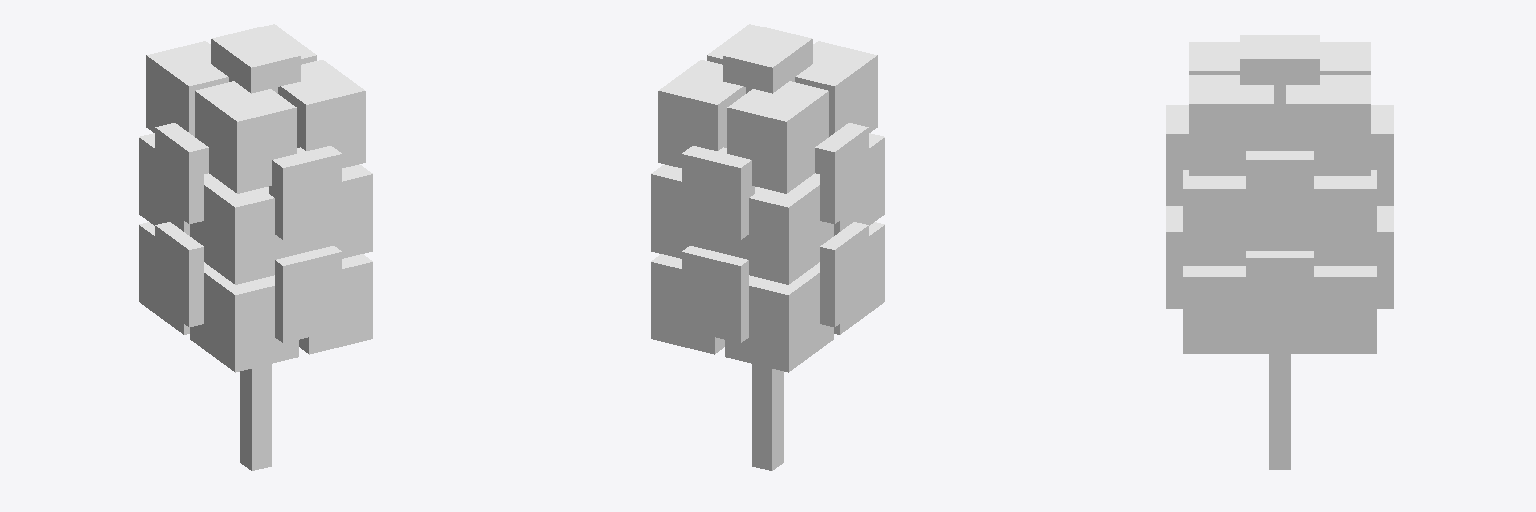
The model's file is ArbreP.obj.
3 views of the same model, side by side, from view 1: azimuth 30°, elevation 25°; view 2: azimuth 150°, elevation 25°; view 3: azimuth 270°, elevation 25° (orthographic).
Parts seen in each view (by area): view 1: object 1; view 2: object 1; view 3: object 1.
Part boxes in pixels (bbox=[...]): object 1: bbox=[139, 24, 372, 470]; object 1: bbox=[651, 24, 884, 470]; object 1: bbox=[1166, 35, 1393, 469].
Size of the model in its own units: 3.4 by 8.1 by 4.